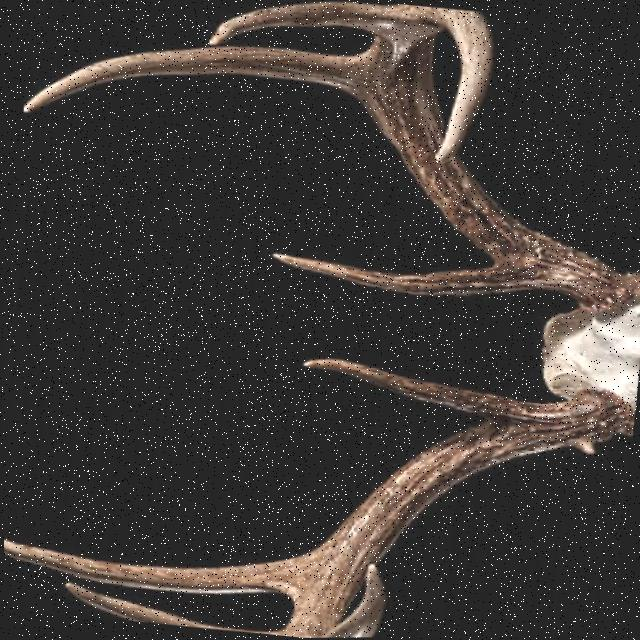E1: (574, 439, 593, 455)
L-G1: (271, 253, 538, 296)
L-G2: (21, 46, 361, 112)
L-G3: (207, 0, 396, 45)
R-F: (288, 388, 634, 638)
R-G1: (301, 359, 522, 424)
R-G2: (3, 539, 304, 597)
R-G3: (62, 582, 290, 637)
